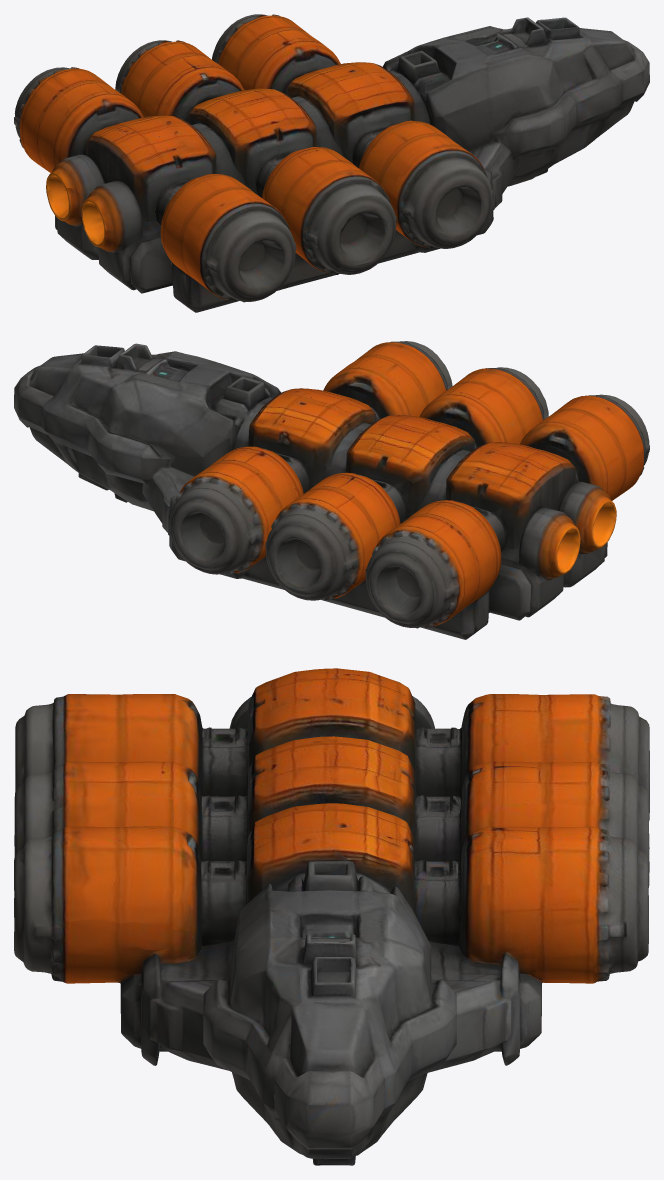
The model's file is atlas_c4.glb.
3 renders of one model, top to bottom at view 1: azimuth 30°, elevation 25°; view 2: azimuth 150°, elevation 25°; view 3: azimuth 270°, elevation 25°, orthographic. The views are drawn at different scales.
Parts seen in each view (by area): view 1: tripo_node_3e7970bd-5ab6-4f79-9337-fb079e71b77e; view 2: tripo_node_3e7970bd-5ab6-4f79-9337-fb079e71b77e; view 3: tripo_node_3e7970bd-5ab6-4f79-9337-fb079e71b77e.
Boxes of the visible parts, <box> form: tripo_node_3e7970bd-5ab6-4f79-9337-fb079e71b77e: <box>14,14,649,312</box>; tripo_node_3e7970bd-5ab6-4f79-9337-fb079e71b77e: <box>14,341,649,639</box>; tripo_node_3e7970bd-5ab6-4f79-9337-fb079e71b77e: <box>14,668,649,1165</box>.
Bounding box in the file's own units: 2 × 0.5078 × 1.33.
Materials: 1 (1 with a texture image).
